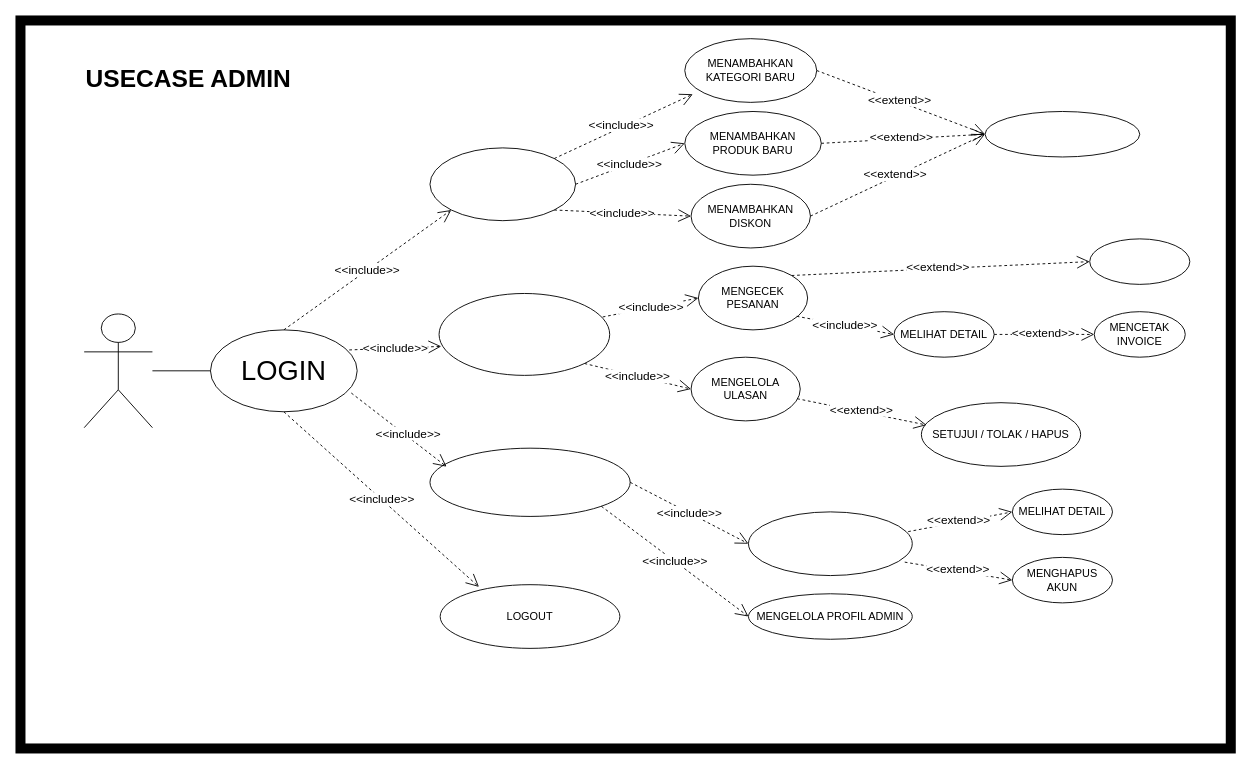
Some shapes in this 1251 by 769 pixel diagram are drawn without their labels. Here are the shapes that lost their labels. From the top down, the centre of each, then its label:
At [1062,134]: "TAMBAH / EDIT / HAPUS".
At [502,184]: "MENGELOLA PRODUK".
At [1139,261]: "MENGUPDATE PESANAN".
At [524,334]: "MENGELOLA LAPORAN".
At [117,370]: "ADMIN".
At [529,481]: "MENGELOLA DATA AKUN".
At [830,543]: "MENGELOLA AKUN PELANGGAN".
